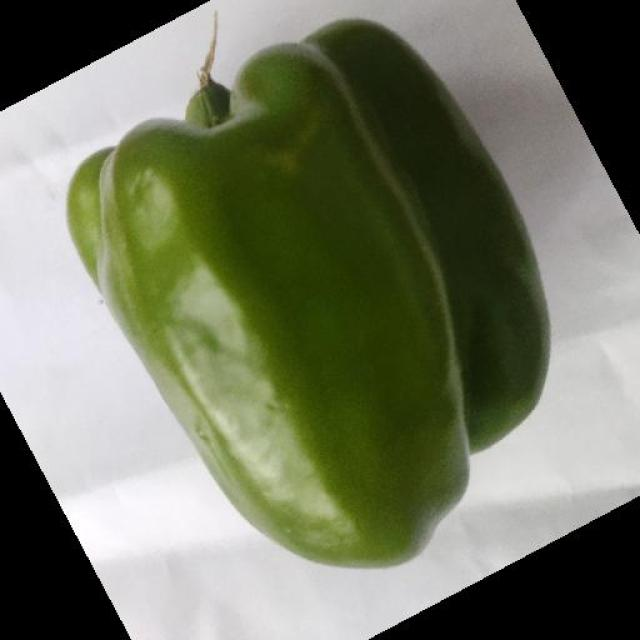Stale_Capsicum: (68, 43, 560, 526)
